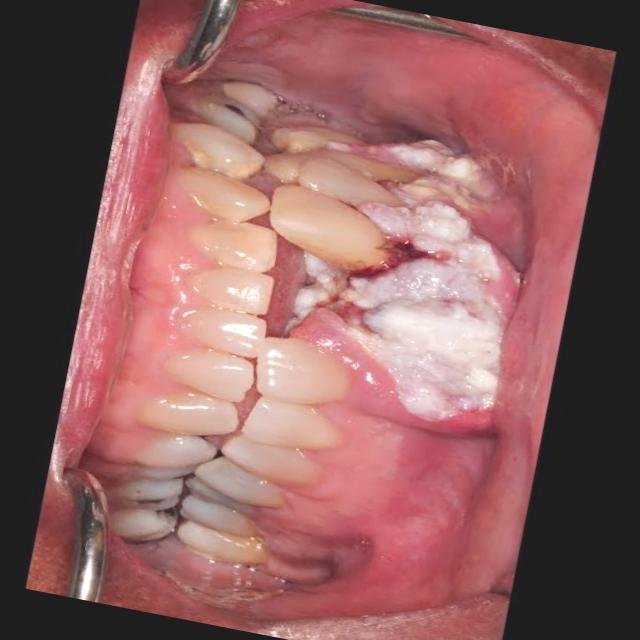Cancer: (233, 81, 580, 442), (106, 451, 365, 640)
